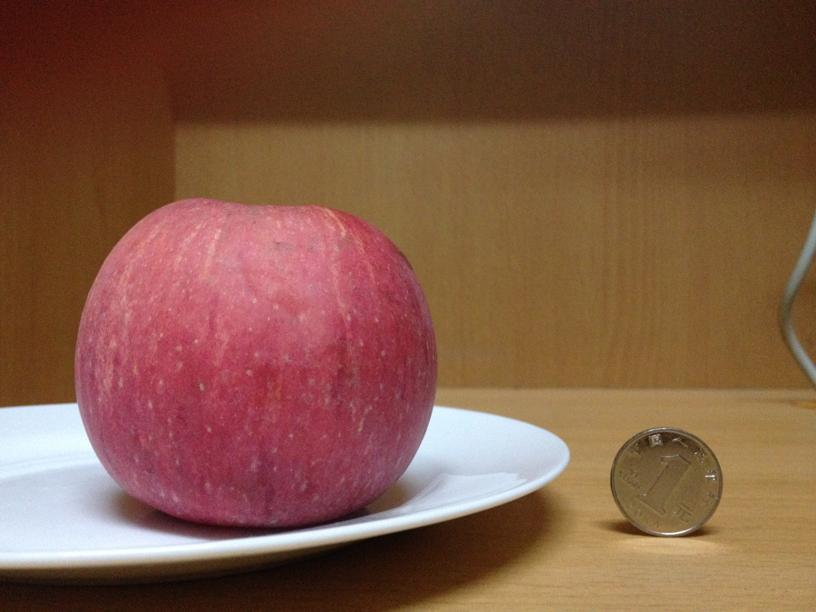apple: (64, 195, 439, 530)
coin: (611, 426, 722, 536)
